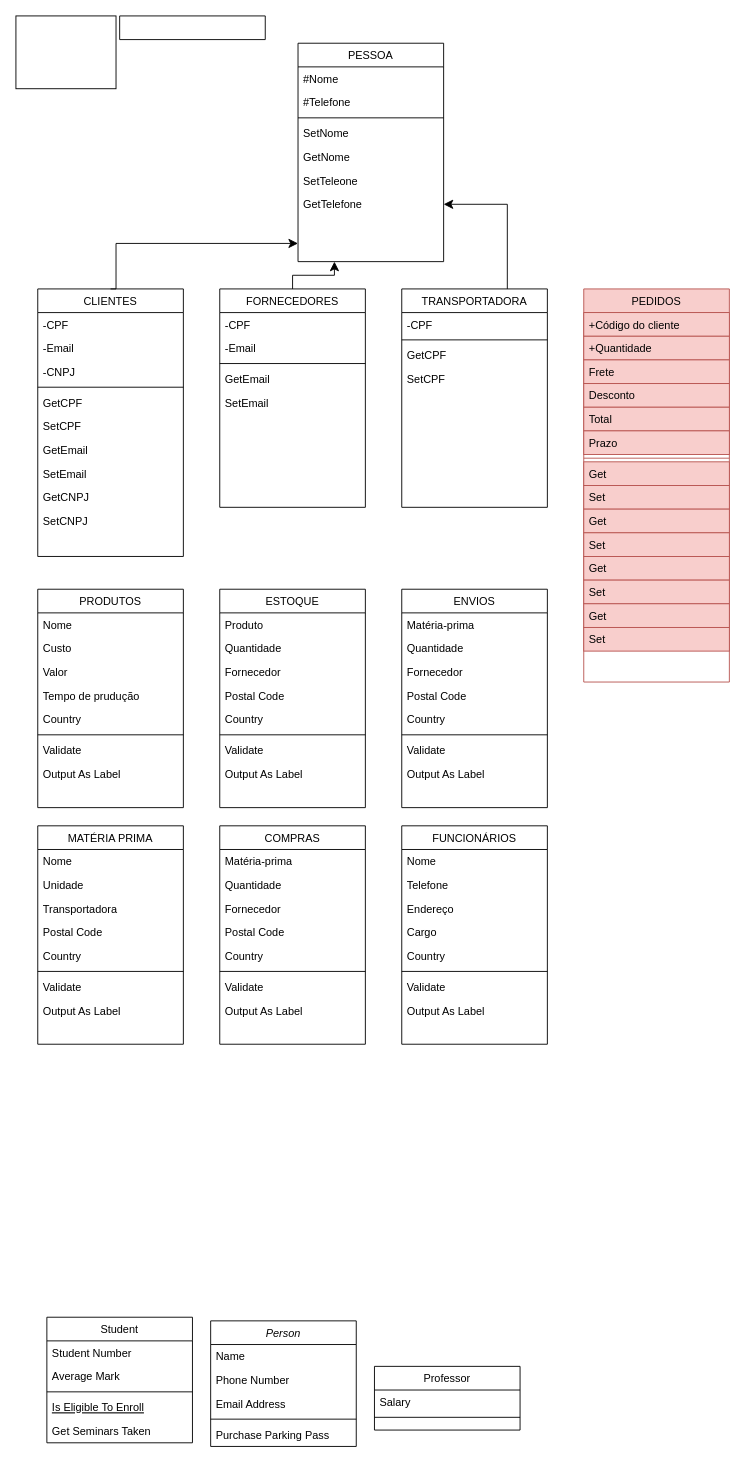
This 745x1465 diagram has some shape labels left out. Each missing label, with the centre of its shape:
"-Privado +Público #Protegido" belongs at point 65,52.
"NOME DA CLASSE" belongs at point 192,27.
